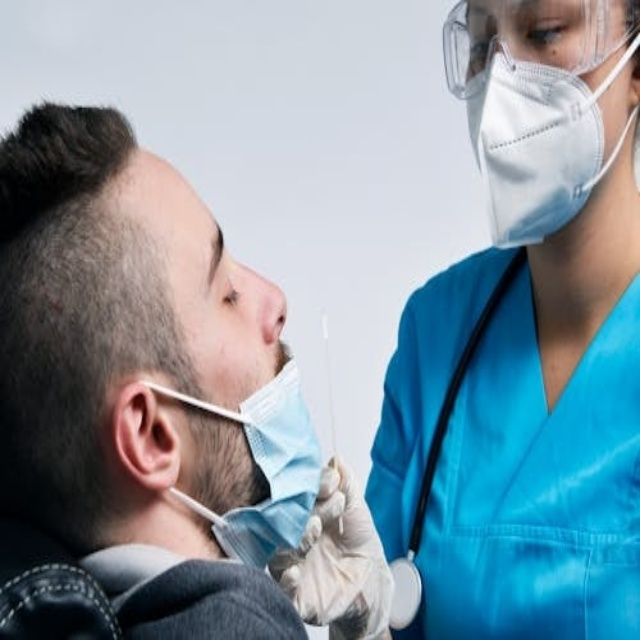Gafas: (441, 0, 639, 98)
Guantes: (264, 451, 394, 640)
Mascara: (463, 10, 638, 251), (191, 356, 324, 566)
Sin_gafas: (202, 211, 250, 332)
